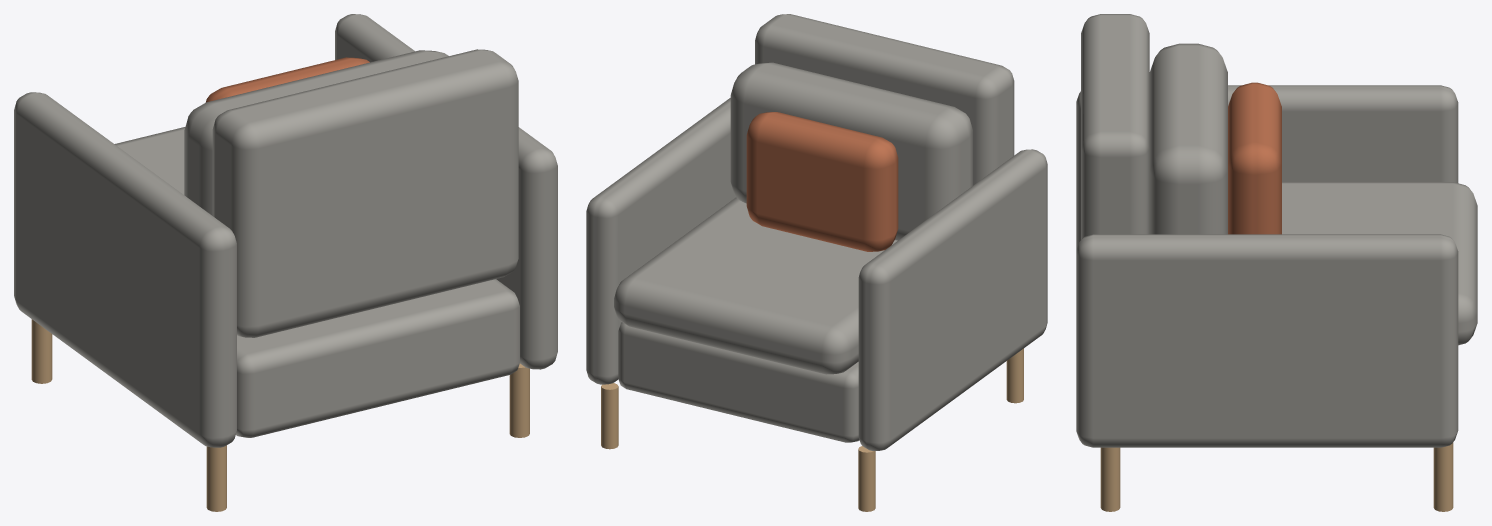
3 views of the same model, side by side, from view 1: azimuth 30°, elevation 25°; view 2: azimuth 150°, elevation 25°; view 3: azimuth 270°, elevation 25° (orthographic). The views are drawn at different scales.
Visible parts, largest first — view 1: base, leg-1, pillow; view 2: base, pillow, leg-1; view 3: base, pillow, leg-1.
Part boxes in pixels (x1,y1,x2,y2): base: (14,14,557,447); leg-1: (31,319,529,511); pillow: (205,57,369,102); base: (586,14,1047,450); pillow: (746,112,898,251); leg-1: (601,348,1023,511); base: (1076,14,1477,447); pillow: (1228,82,1281,234); leg-1: (1100,442,1453,511).
Bounding box in the file's own units: 0.8 × 0.82 × 0.82.
